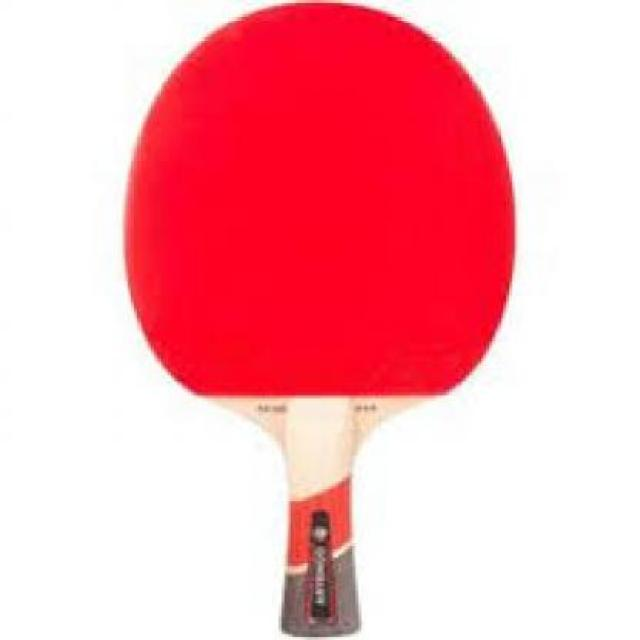table_tennis_racket: (113, 0, 519, 418)
